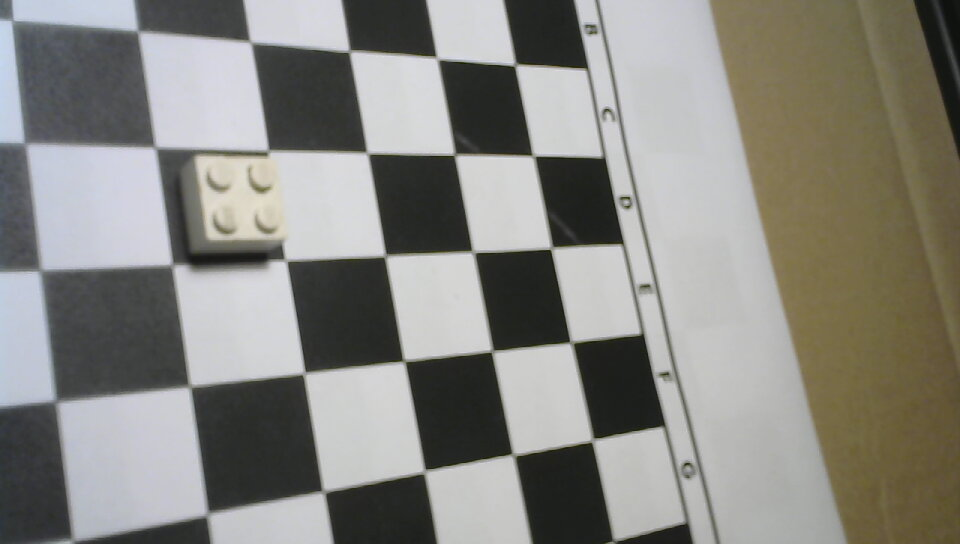wp: (157, 143, 295, 265)
